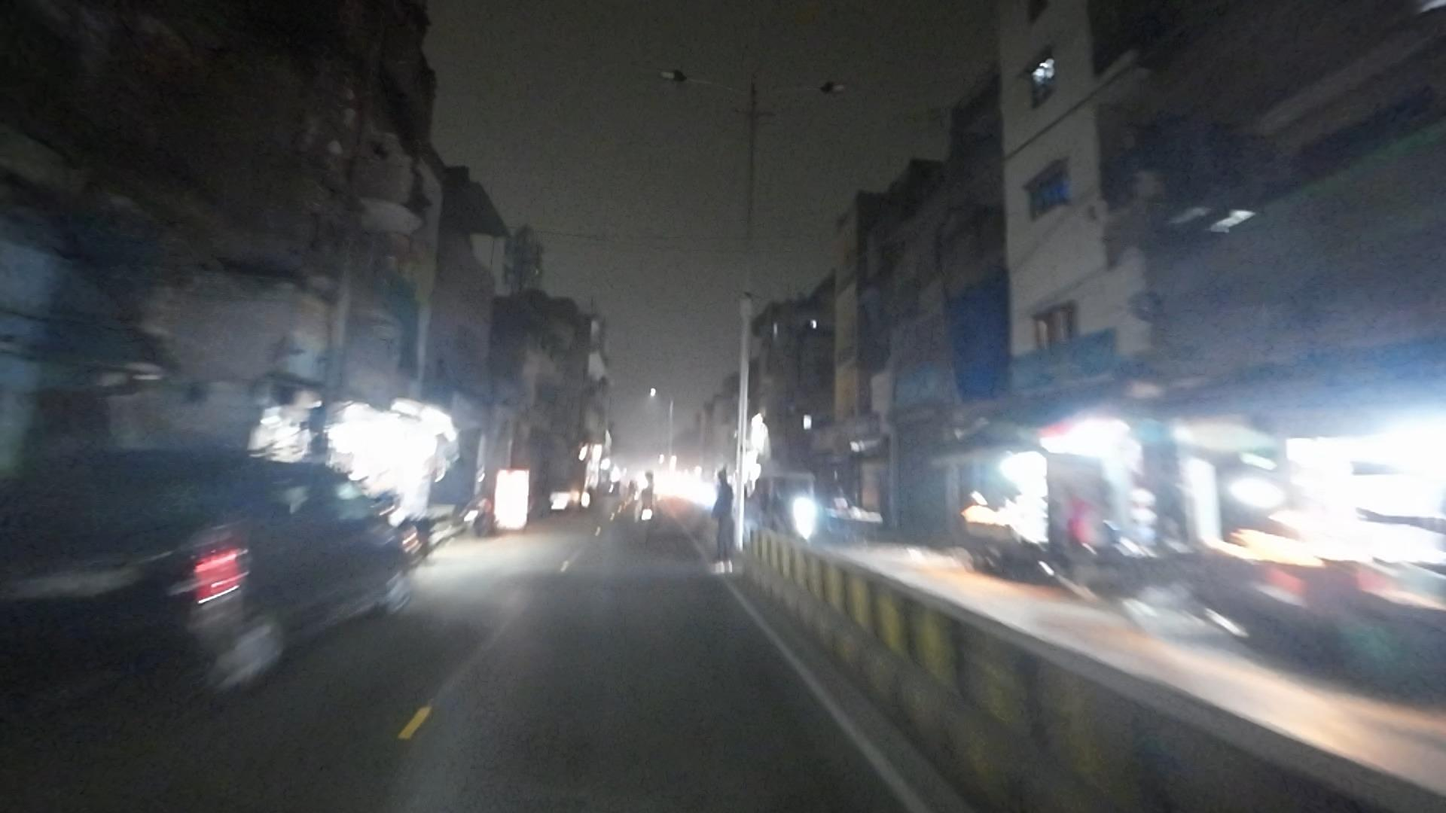streetlight: (653, 65, 748, 98), (758, 79, 848, 99)
